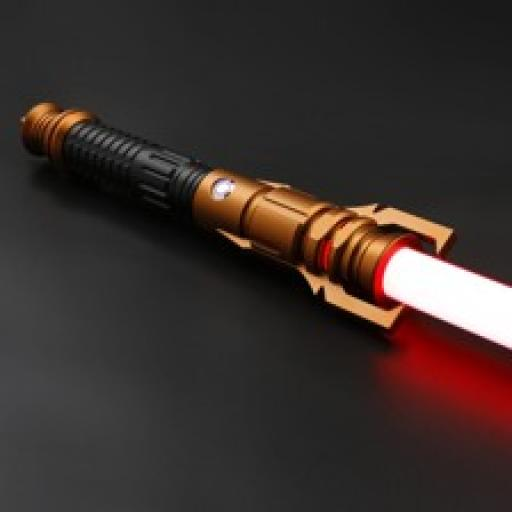sith saber: (21, 100, 512, 353)
